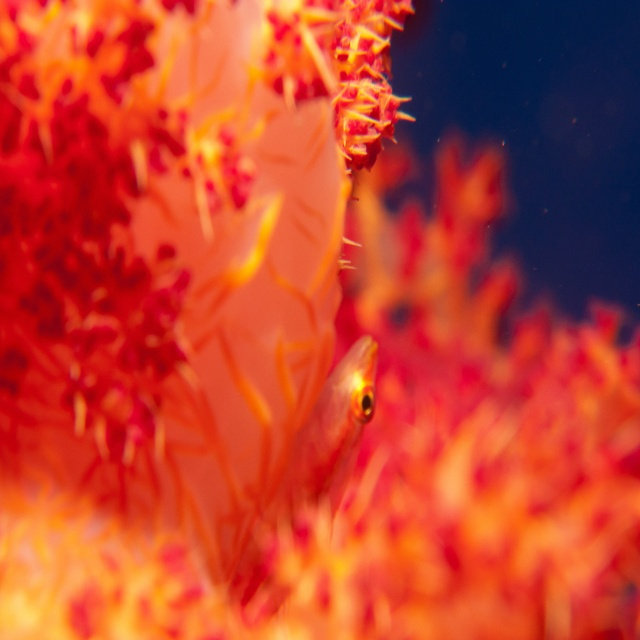Goldfish: (238, 333, 373, 519)
